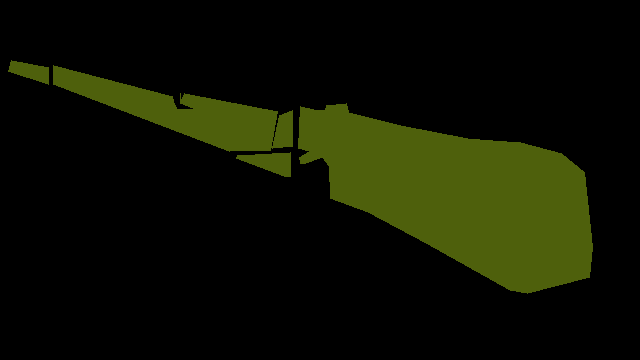Train: (8, 60, 592, 293)
